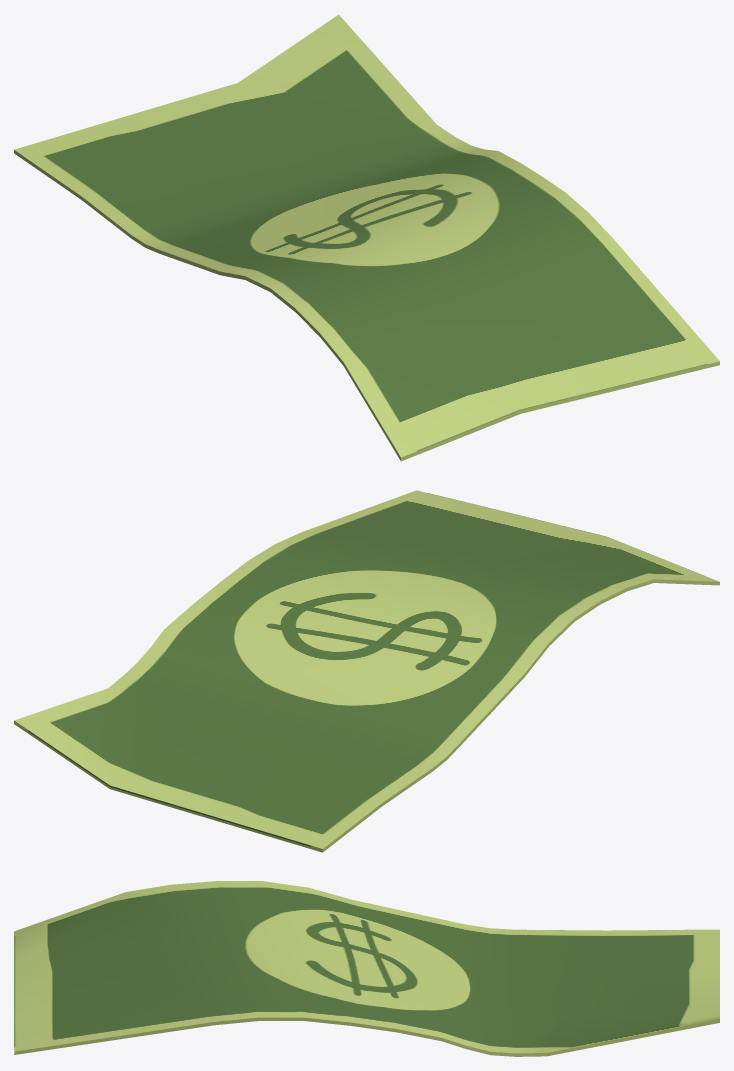
The model's file is SM_DarkDollarBill.fbx.
3 views of the same model, one above another, from view 1: azimuth 30°, elevation 25°; view 2: azimuth 150°, elevation 25°; view 3: azimuth 270°, elevation 25° (orthographic). The views are drawn at different scales.
Visible parts, largest first — view 1: Dollar_bill; view 2: Dollar_bill; view 3: Dollar_bill.
Boxes of the visible parts, x1,y1,x2,y2 form: Dollar_bill: (14,14,719,461); Dollar_bill: (14,490,719,852); Dollar_bill: (14,881,719,1056).
Size of the model in its own units: 14.91 by 2.9 by 30.36.
